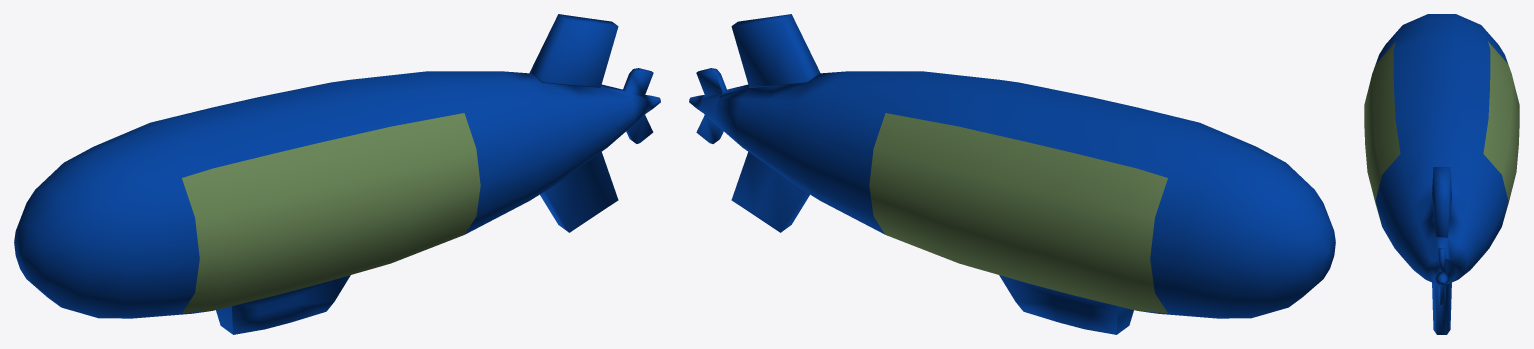
Rendered from FDFR.obj.
3 views of the same model, side by side, from view 1: azimuth 30°, elevation 25°; view 2: azimuth 150°, elevation 25°; view 3: azimuth 270°, elevation 25° (orthographic). The views are drawn at different scales.
Visible parts, largest first — view 1: Meshescarscircle0031Mtl_Obj, Meshescarscircle0041Mtl_Obj; view 2: Meshescarscircle0031Mtl_Obj, Meshescarscircle0041Mtl_Obj; view 3: Meshescarscircle0031Mtl_Obj, Meshescarscircle0041Mtl_Obj.
Part boxes in pixels (bbox=[...]): Meshescarscircle0031Mtl_Obj: bbox=[14, 14, 660, 334]; Meshescarscircle0041Mtl_Obj: bbox=[182, 113, 480, 313]; Meshescarscircle0031Mtl_Obj: bbox=[689, 14, 1335, 334]; Meshescarscircle0041Mtl_Obj: bbox=[869, 113, 1167, 313]; Meshescarscircle0031Mtl_Obj: bbox=[1375, 14, 1508, 334]; Meshescarscircle0041Mtl_Obj: bbox=[1364, 41, 1519, 223].
Size of the model in its own units: 22.64 by 7.88 by 6.18.
